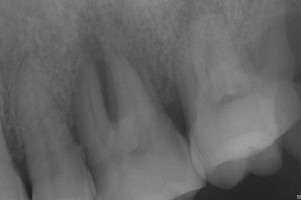Dental Caries: (75, 0, 180, 118)
Furcation Involvement: (171, 0, 194, 40)
